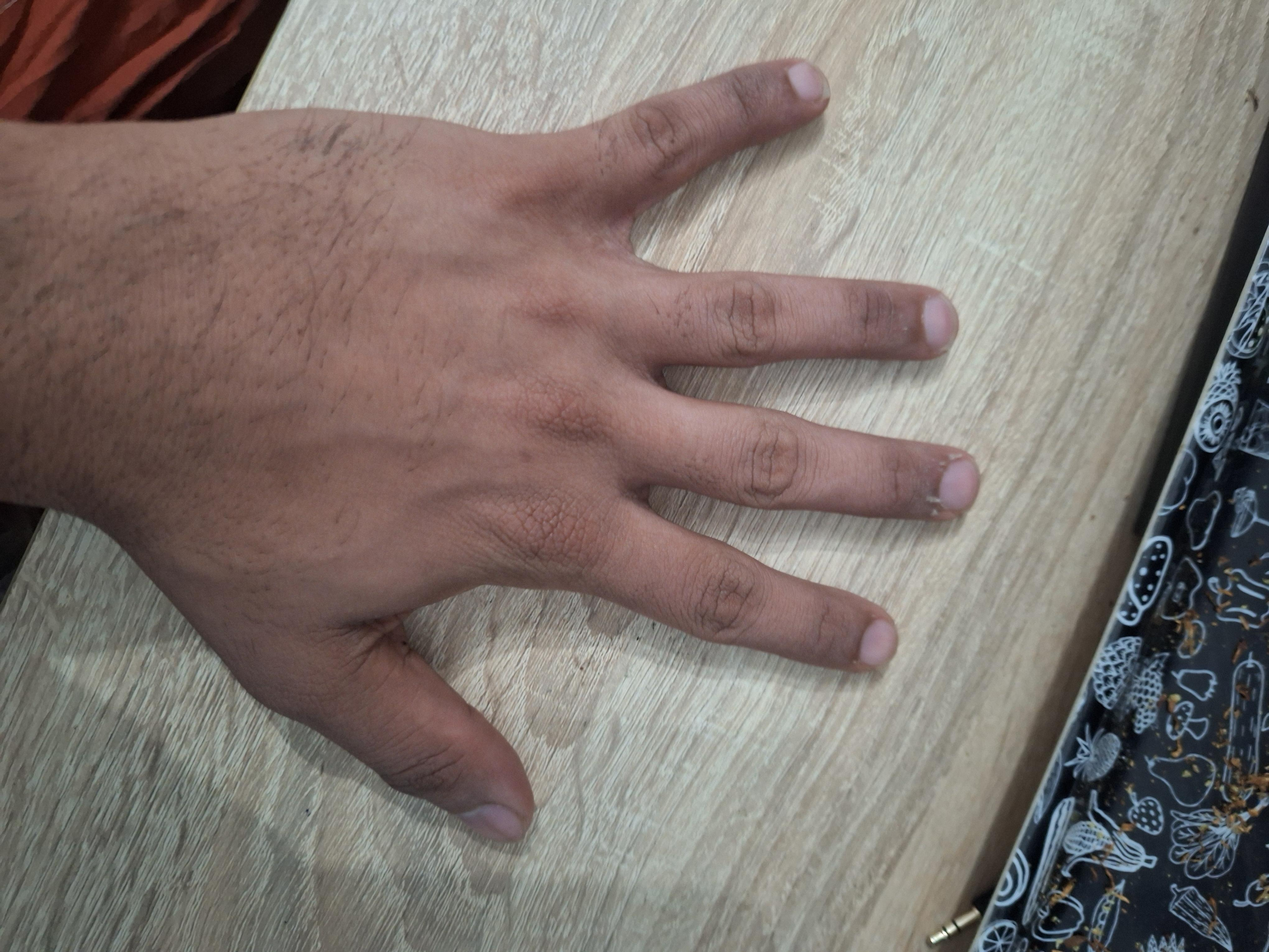Fingernail: (459, 804, 524, 844), (924, 294, 959, 354), (939, 459, 978, 510), (788, 61, 830, 101), (860, 620, 894, 666)
